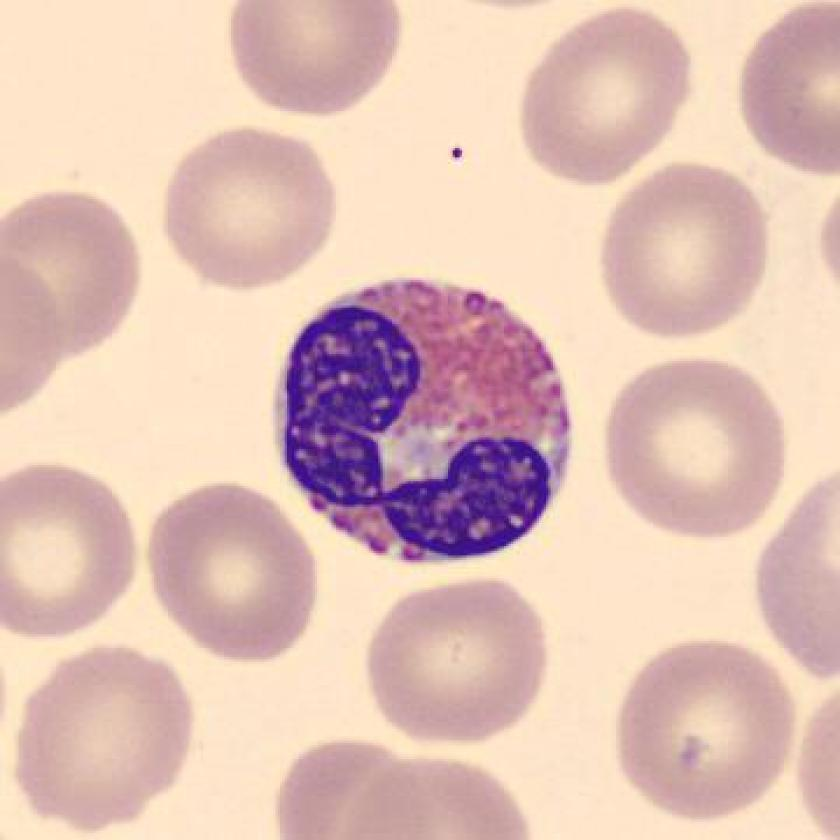eosinophil: (253, 267, 589, 575)
